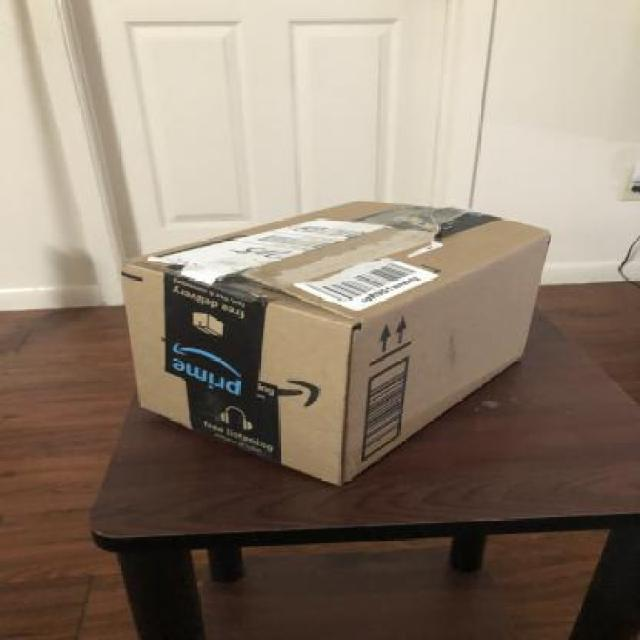cardboxes: (114, 197, 560, 492)
